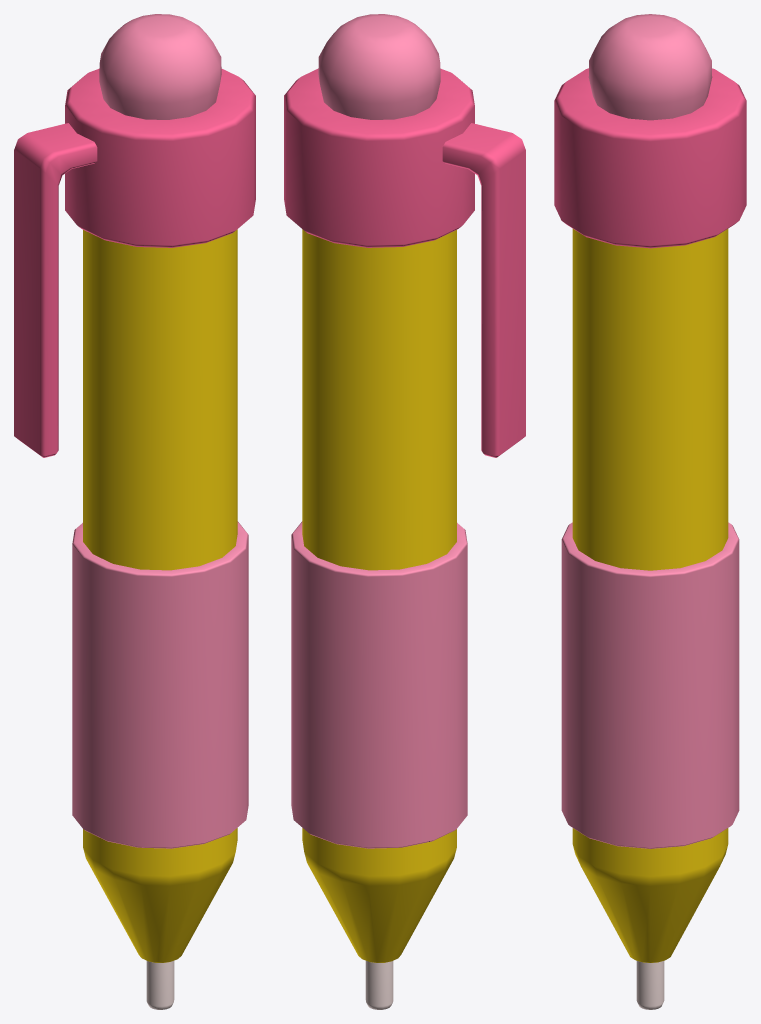
The model's file is Public_2_Pen_1.glb.
The picture shows the model from 3 angles, left to right: view 1: azimuth 30°, elevation 25°; view 2: azimuth 150°, elevation 25°; view 3: azimuth 270°, elevation 25°; orthographic projection.
Visible parts, largest first — view 1: Public_2_Pen_1; view 2: Public_2_Pen_1; view 3: Public_2_Pen_1.
Part boxes in pixels (left/top/right/bottom): Public_2_Pen_1: left=14, top=14, right=255, bottom=1009; Public_2_Pen_1: left=284, top=14, right=525, bottom=1009; Public_2_Pen_1: left=554, top=14, right=746, bottom=1009.
Size of the model in its own units: 0.4333 by 1.87 by 0.3333.
1 material, 1 textured.
